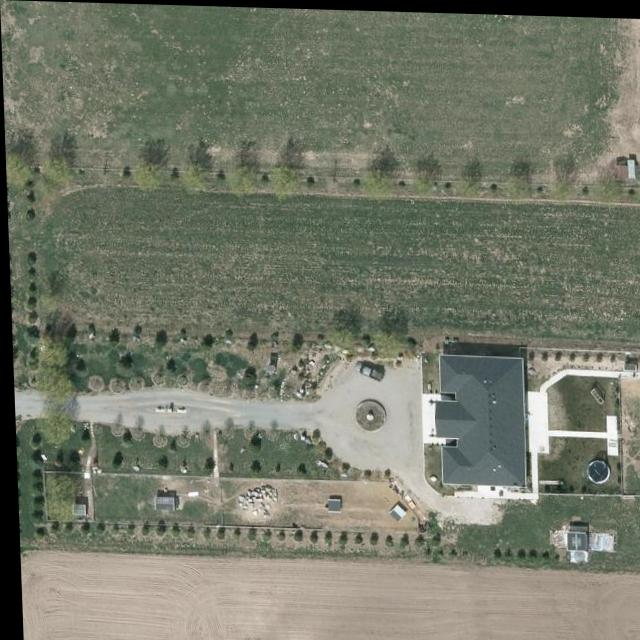vehicle: (349, 360, 383, 380)
